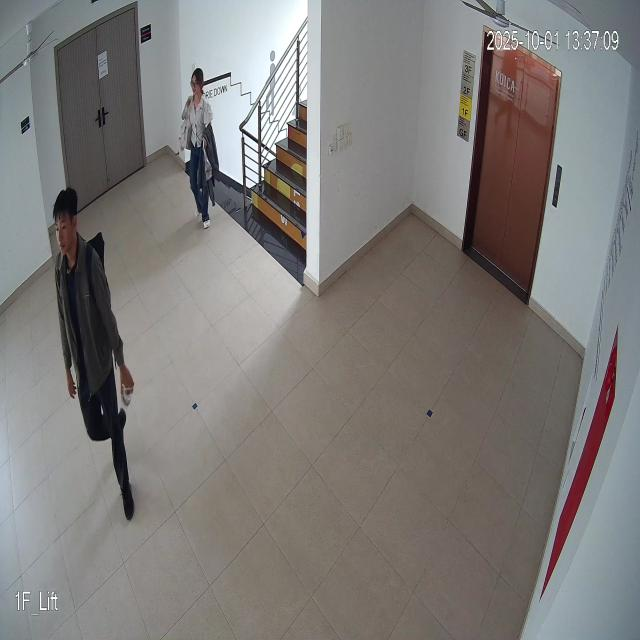face: (50, 182, 83, 264)
